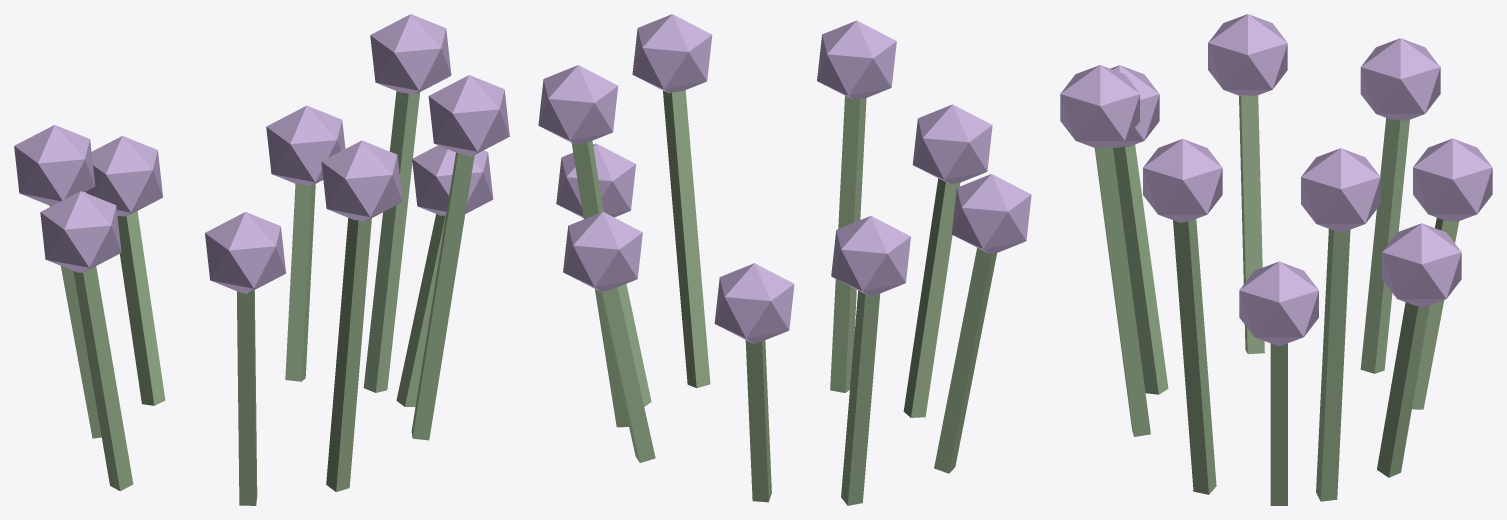
The model's file is heather-clump.glb.
3 renders of one model, left to right at view 1: azimuth 30°, elevation 25°; view 2: azimuth 150°, elevation 25°; view 3: azimuth 270°, elevation 25°, orthographic. The views are drawn at different scales.
Parts seen in each view (by area): view 1: Heather stalk.008, Heather stalk.002, Heather stalk.005, Heather stalk.004, Heather blossom.004, Heather blossom.002, Heather blossom.007, Heather blossom.005, Heather blossom.008, Heather blossom.001, Heather stalk.006, Heather blossom.003 (+6 smaller); view 2: Heather stalk.005, Heather stalk.007, Heather stalk.002, Heather blossom.001, Heather blossom.006, Heather blossom.004, Heather blossom.003, Heather blossom.008, Heather blossom.002, Heather blossom.007, Heather blossom.005, Heather stalk.001 (+6 smaller); view 3: Heather stalk.005, Heather stalk.008, Heather stalk.007, Heather stalk.001, Heather stalk.002, Heather blossom.001, Heather blossom, Heather blossom.003, Heather blossom.008, Heather blossom.005, Heather blossom.002, Heather blossom.006 (+6 smaller).
Part boxes in pixels (<box>): Heather stalk.008: <box>363,91,420,392</box>; Heather stalk.002: <box>326,218,371,491</box>; Heather stalk.005: <box>411,152,474,440</box>; Heather stalk.004: <box>73,266,133,491</box>; Heather blossom.004: <box>40,191,121,272</box>; Heather blossom.002: <box>321,140,402,222</box>; Heather blossom.007: <box>205,212,285,293</box>; Heather blossom.005: <box>428,75,509,156</box>; Heather blossom.008: <box>370,14,451,94</box>; Heather blossom.001: <box>14,125,95,205</box>; Heather stalk.006: <box>117,211,165,405</box>; Heather blossom.003: <box>266,105,345,185</box>; Heather stalk.005: <box>663,90,710,388</box>; Heather stalk.007: <box>903,178,960,417</box>; Heather stalk.002: <box>830,95,866,392</box>; Heather blossom.001: <box>831,216,910,296</box>; Heather blossom.006: <box>714,263,794,343</box>; Heather blossom.004: <box>951,174,1031,253</box>; Heather blossom.003: <box>563,212,642,291</box>; Heather blossom.008: <box>538,65,618,144</box>; Heather blossom.002: <box>817,20,896,99</box>; Heather blossom.007: <box>912,104,992,184</box>; Heather blossom.005: <box>632,14,712,93</box>; Heather stalk.001: <box>841,290,880,505</box>; Heather stalk.005: <box>1173,219,1216,494</box>; Heather stalk.008: <box>1316,229,1350,501</box>; Heather stalk.007: <box>1113,144,1168,394</box>; Heather stalk.001: <box>1360,118,1409,373</box>; Heather stalk.002: <box>1094,145,1150,436</box>; Heather blossom.001: <box>1360,38,1440,120</box>; Heather blossom: <box>1239,261,1318,345</box>; Heather blossom.003: <box>1382,223,1461,307</box>; Heather blossom.008: <box>1301,148,1380,231</box>; Heather blossom.005: <box>1143,139,1222,222</box>; Heather blossom.002: <box>1060,65,1139,147</box>; Heather blossom.006: <box>1413,138,1492,221</box>.
Size of the model in its own units: 1.1 by 0.829 by 0.8758.
